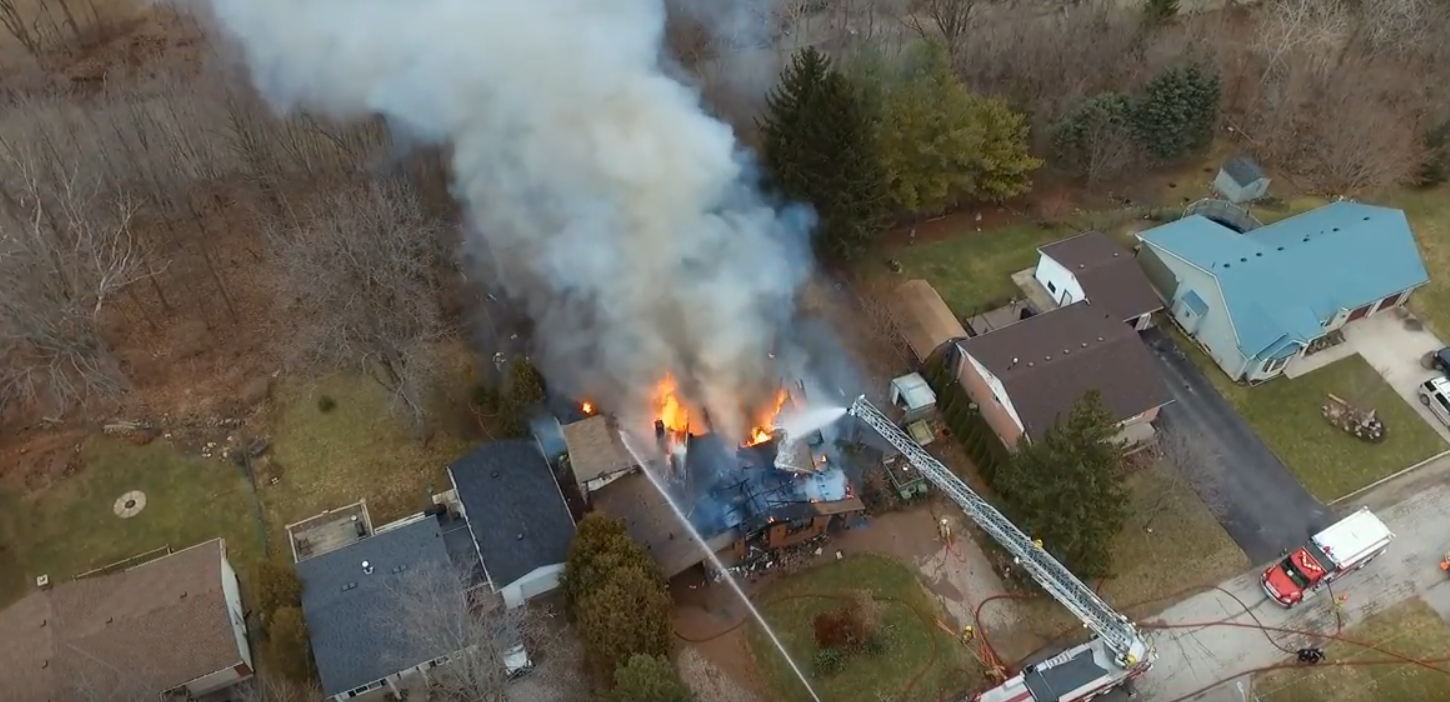fire: (634, 373, 801, 482)
